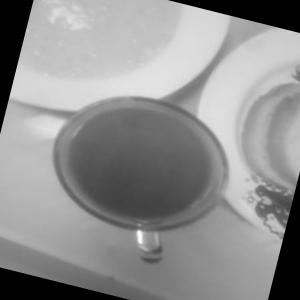coffee: (27, 63, 240, 283)
